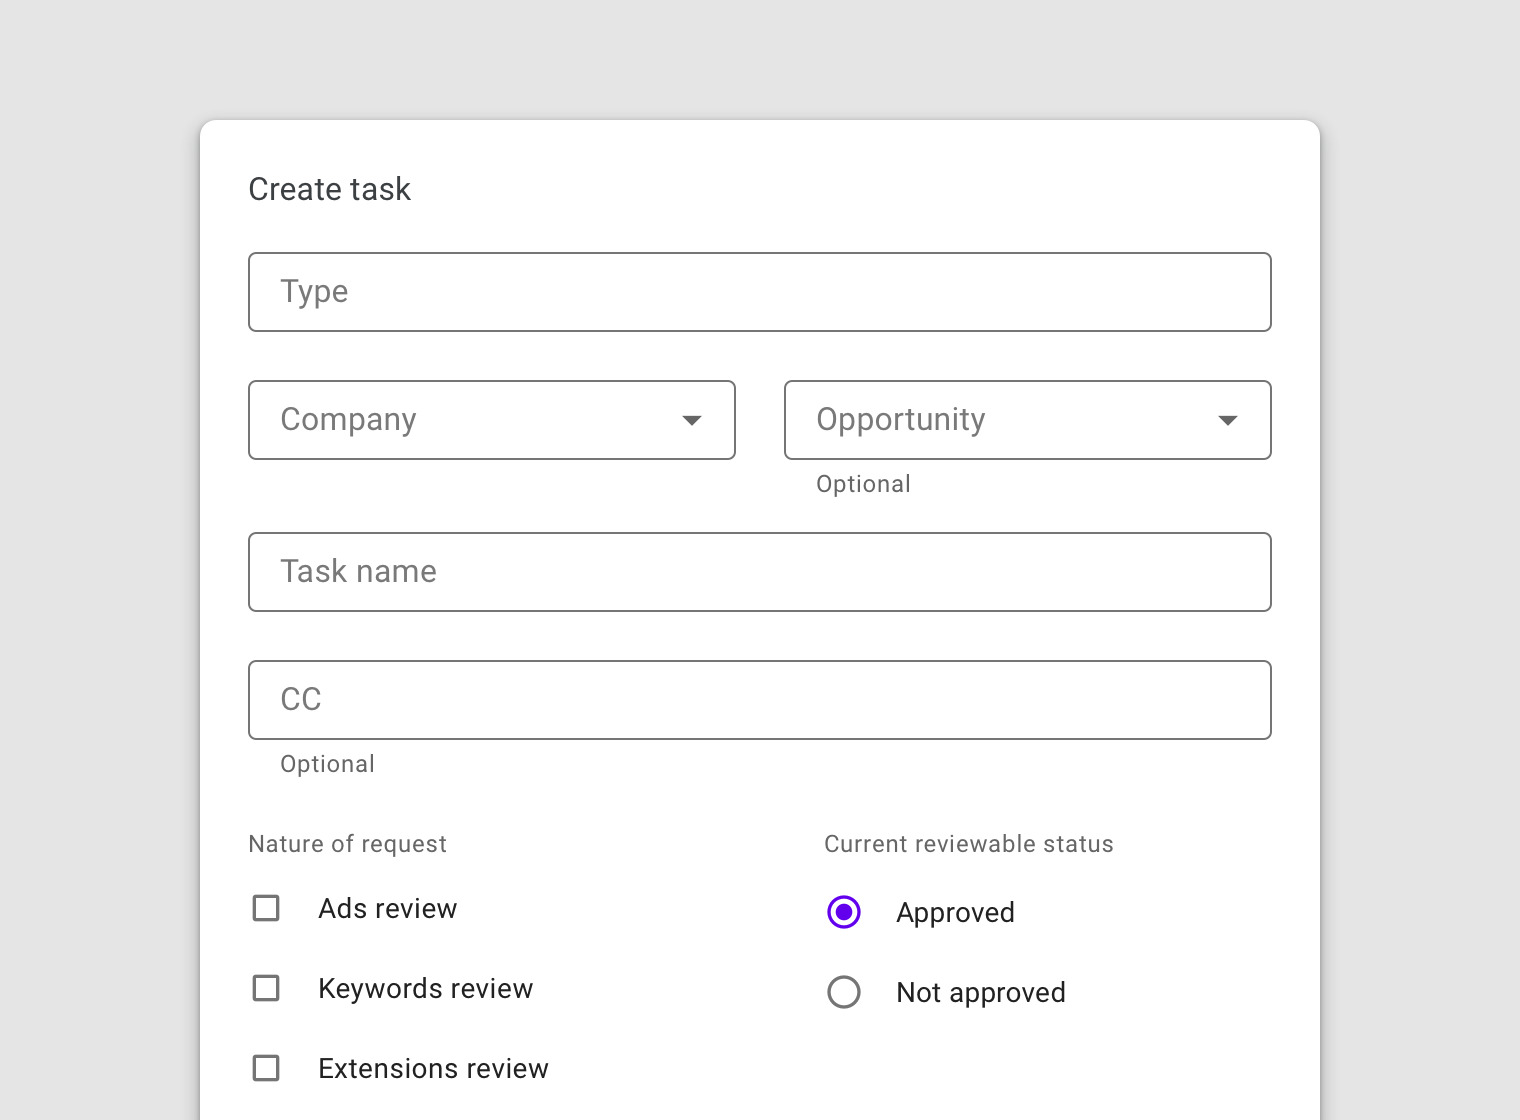_form_: (235, 242, 1289, 618), (232, 646, 1286, 1021)
checkbox: (253, 969, 286, 1006), (249, 890, 281, 926), (251, 1052, 280, 1082)
checkbox_with_label: (247, 967, 532, 1009), (245, 1047, 548, 1087), (243, 888, 457, 930)
field: (243, 250, 1275, 336), (247, 657, 1278, 742), (244, 530, 1276, 614)
radio: (823, 886, 865, 931), (827, 971, 861, 1015)
radio_with_label: (823, 967, 1070, 1019), (815, 883, 1018, 937)
select: (781, 376, 1276, 465), (245, 376, 739, 465)
